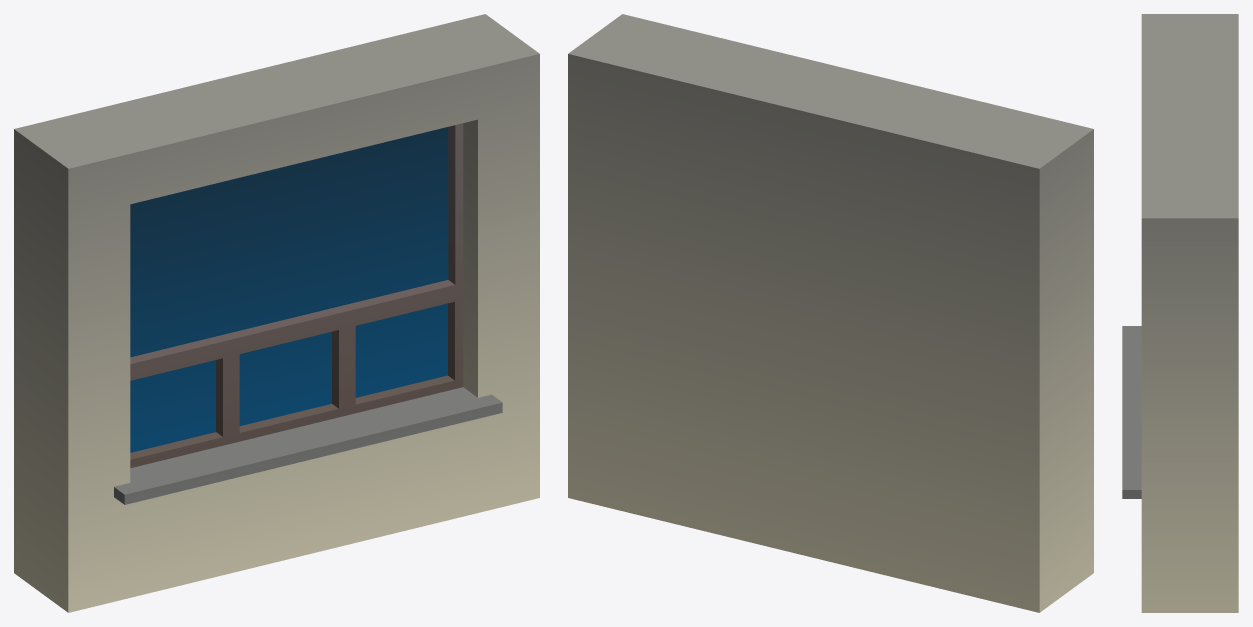
File: B02_fenetre_3.fbx
3 renders of one model, left to right at view 1: azimuth 30°, elevation 25°; view 2: azimuth 150°, elevation 25°; view 3: azimuth 270°, elevation 25°, orthographic. The views are drawn at different scales.
Parts seen in each view (by area): view 1: B02_fenetre_3; view 2: B02_fenetre_3; view 3: B02_fenetre_3.
Boxes of the visible parts, x1=… form: B02_fenetre_3: x1=14, y1=14, x2=539, y2=612; B02_fenetre_3: x1=568, y1=14, x2=1093, y2=612; B02_fenetre_3: x1=1122, y1=14, x2=1238, y2=612.
Bounding box in the file's own units: 500 × 450 × 120.
